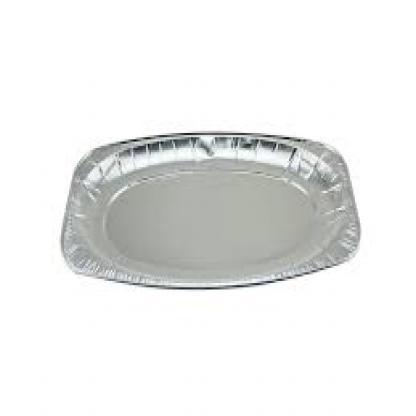METAL: (58, 131, 360, 287)
